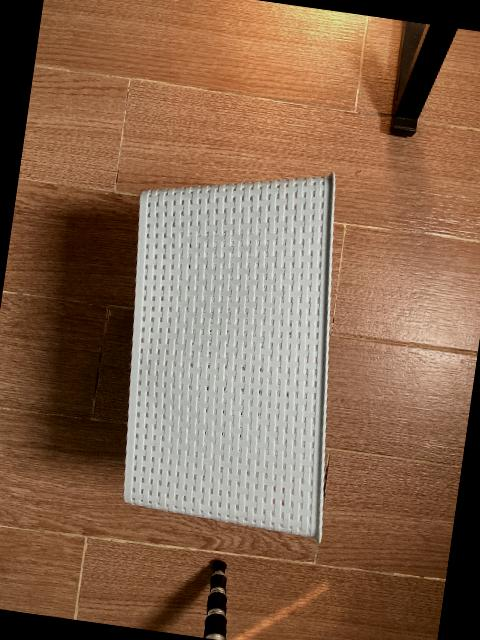cart: (121, 170, 335, 543)
